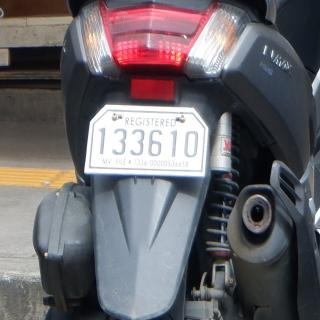license: (85, 106, 209, 178)
